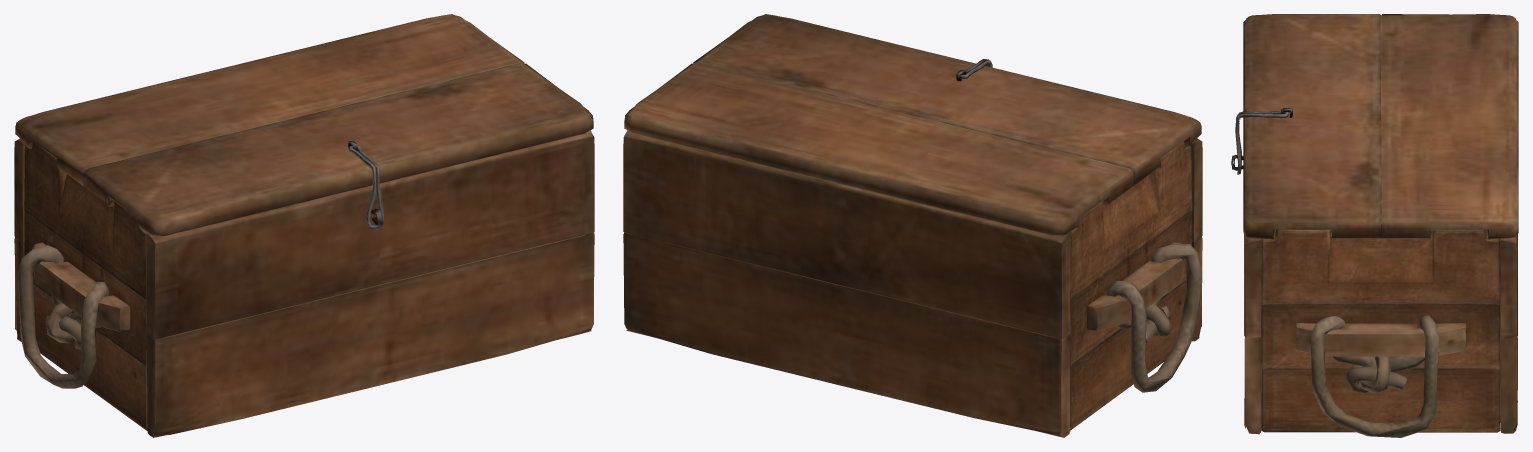
Rendered from crate_b.glb.
3 views of the same model, side by side, from view 1: azimuth 30°, elevation 25°; view 2: azimuth 150°, elevation 25°; view 3: azimuth 270°, elevation 25° (orthographic). The views are drawn at different scales.
Visible parts, largest first — view 1: wooden_crate_01_lid; view 2: wooden_crate_01_lid; view 3: wooden_crate_01_lid.
Boxes of the visible parts, box(x1,y1,x2,y2) form: wooden_crate_01_lid: box(14, 14, 594, 437); wooden_crate_01_lid: box(623, 14, 1202, 437); wooden_crate_01_lid: box(1231, 14, 1518, 437).
Size of the model in its own units: 0.8247 by 0.3482 by 0.4088.
1 material, 1 textured.
